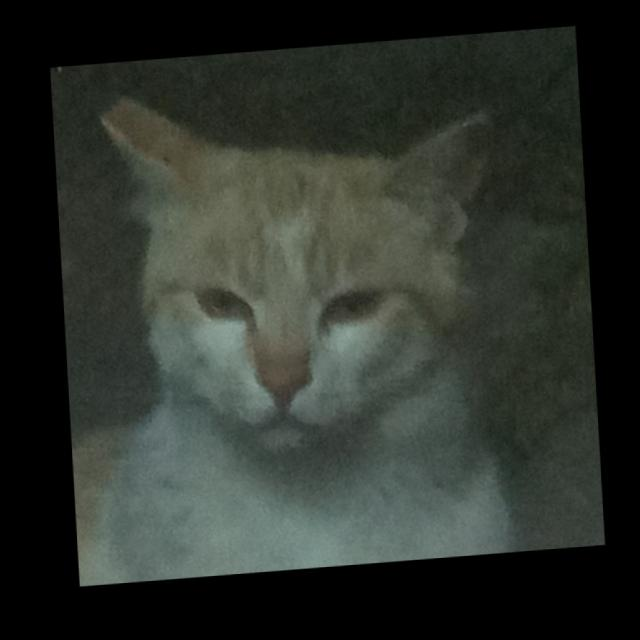animals: (86, 71, 534, 462)
